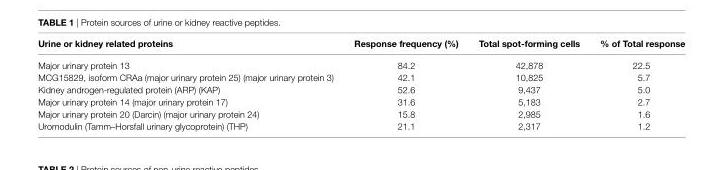table: (37, 37, 684, 130)
table column: (37, 37, 343, 130), (343, 37, 467, 130), (467, 37, 589, 130), (589, 37, 684, 130)
table column header: (37, 37, 684, 53)
table row: (37, 53, 684, 70), (37, 37, 684, 53), (37, 94, 684, 107), (37, 70, 684, 82), (37, 82, 684, 94), (37, 107, 684, 119), (37, 119, 684, 130)
